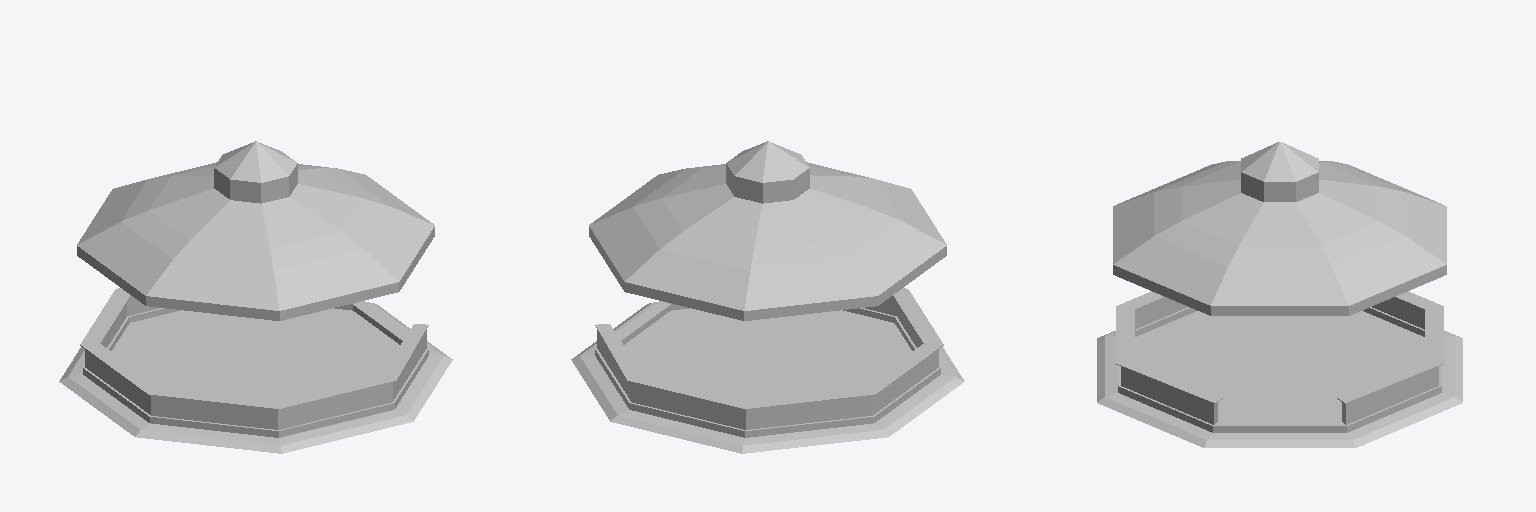
Rendered from Kiosko_1.obj.
3 renders of one model, left to right at view 1: azimuth 30°, elevation 25°; view 2: azimuth 150°, elevation 25°; view 3: azimuth 270°, elevation 25°, orthographic.
Parts seen in each view (by area): view 1: Cuerpo Kiosko; view 2: Cuerpo Kiosko; view 3: Cuerpo Kiosko.
Part boxes in pixels (bbox=[...]): Cuerpo Kiosko: bbox=[59, 141, 452, 453]; Cuerpo Kiosko: bbox=[571, 141, 964, 453]; Cuerpo Kiosko: bbox=[1097, 142, 1462, 447].
Bounding box in the file's own units: 12.93 × 8.92 × 12.93.